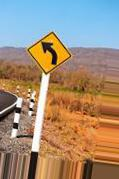left: (26, 32, 72, 74)
